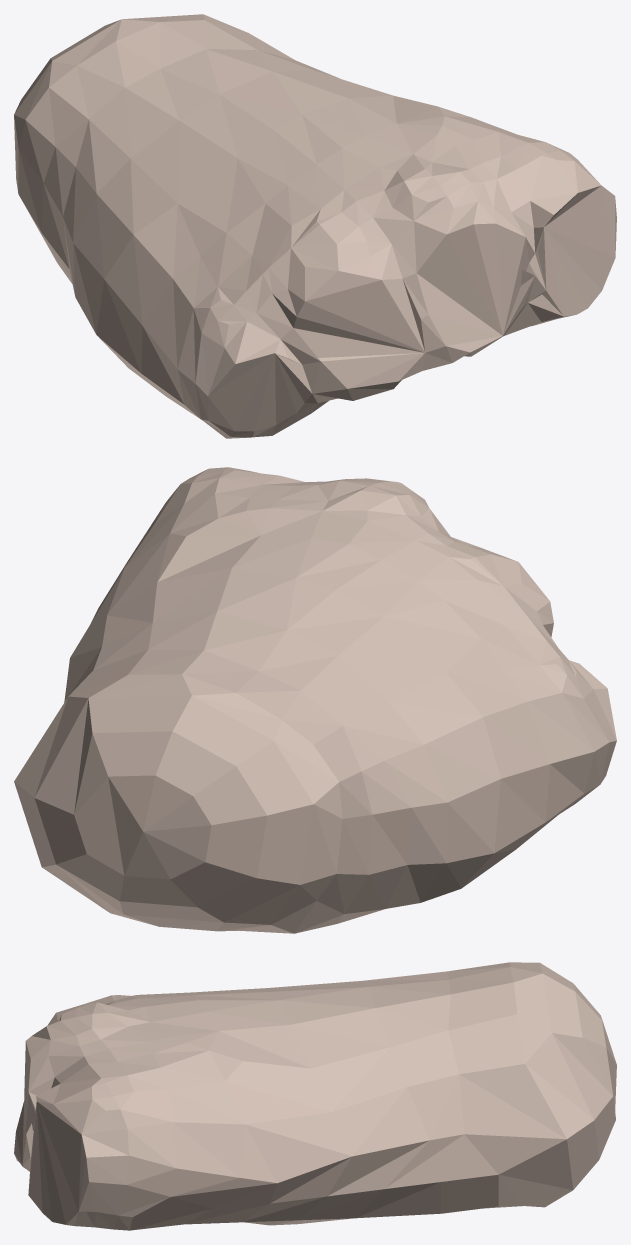
File: RWrist.dae
3 views of the same model, one above another, from view 1: azimuth 30°, elevation 25°; view 2: azimuth 150°, elevation 25°; view 3: azimuth 270°, elevation 25° (orthographic). The views are drawn at different scales.
Visible parts, largest first — view 1: ShapeIndexedFaceSet; view 2: ShapeIndexedFaceSet; view 3: ShapeIndexedFaceSet.
Part boxes in pixels (left/top/right/bottom): ShapeIndexedFaceSet: left=14, top=14, right=616, bottom=438; ShapeIndexedFaceSet: left=14, top=467, right=616, bottom=933; ShapeIndexedFaceSet: left=14, top=962, right=616, bottom=1230.
Size of the model in its own units: 0.0797 by 0.1054 by 0.0455.
